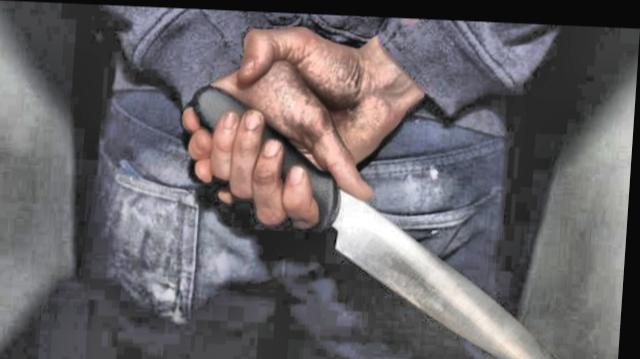knife: (170, 69, 602, 359)
